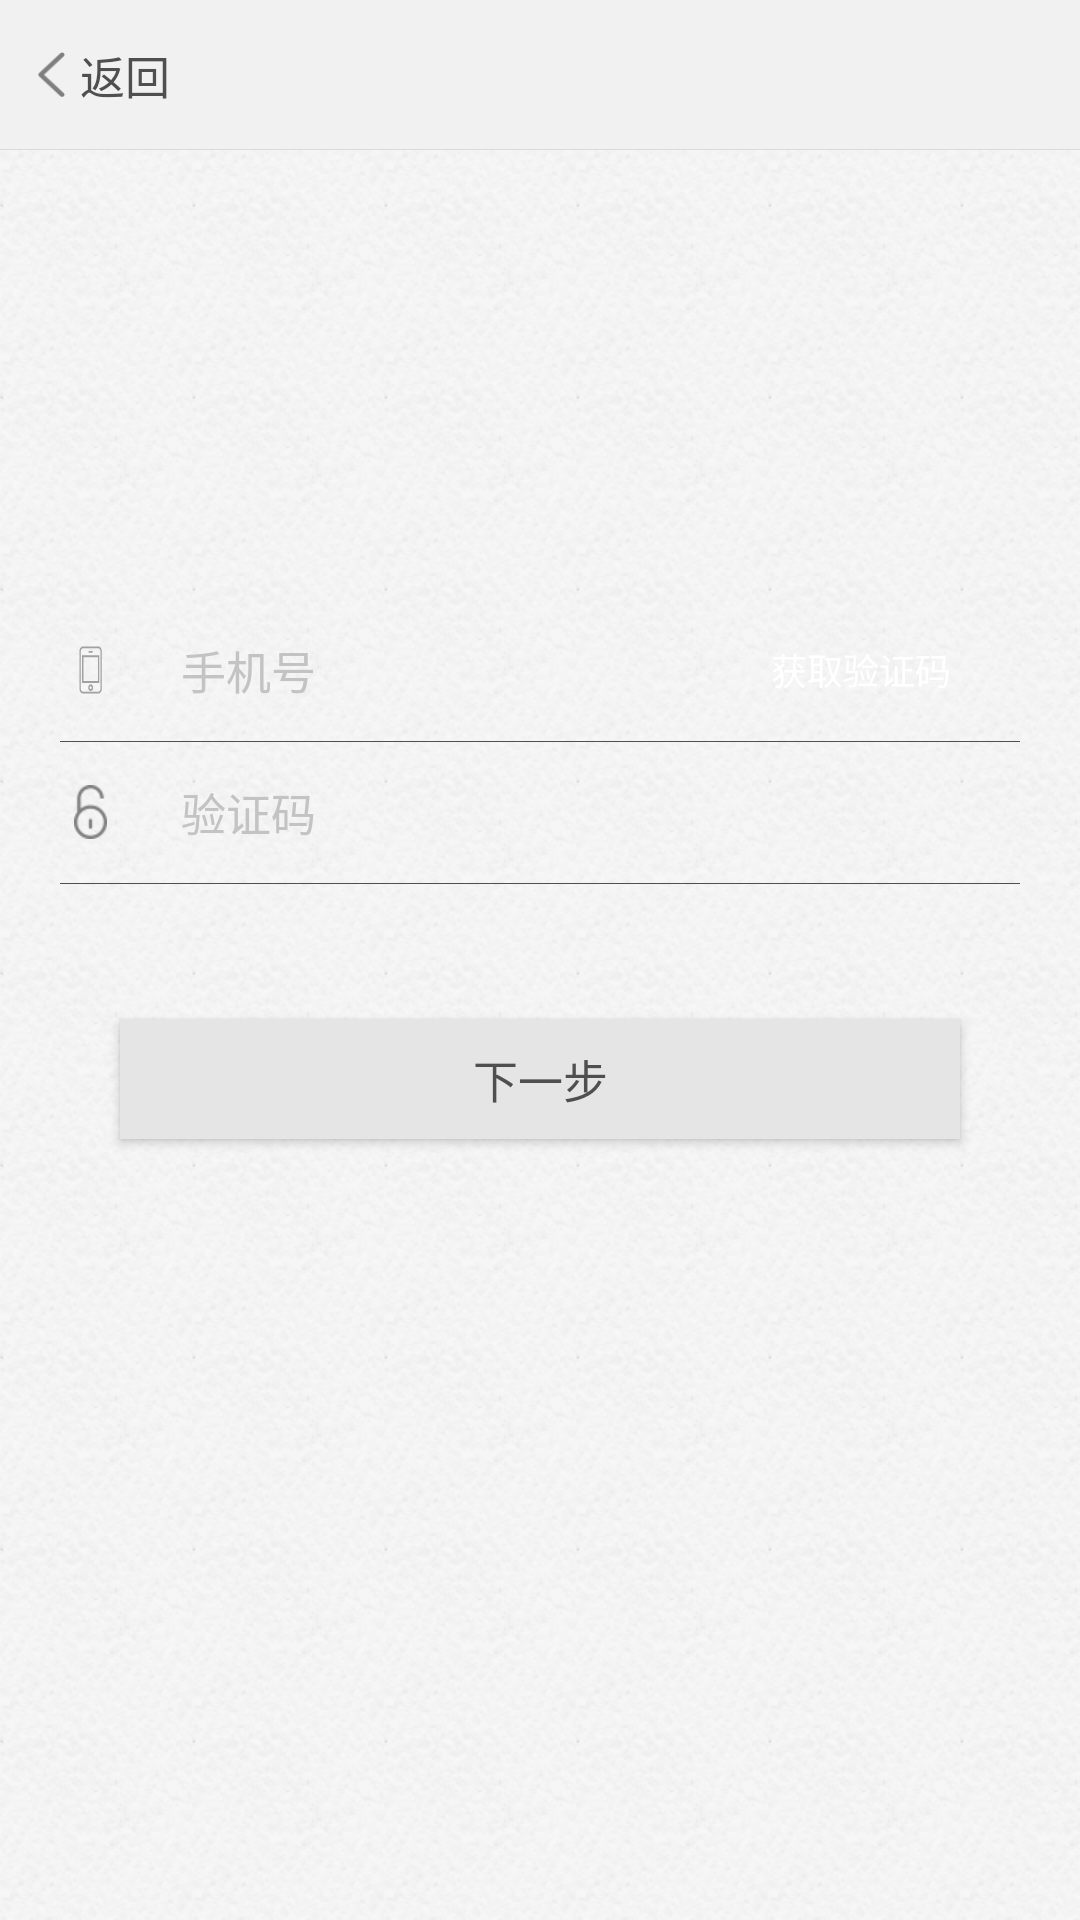

Screen size 1080 × 1920. Icon name, then its box in pixels as [left=x1, top=y1, right=x2, bottom=y2]:
login code: [left=74, top=785, right=107, bottom=839]
mobile flag: [left=79, top=646, right=102, bottom=694]
